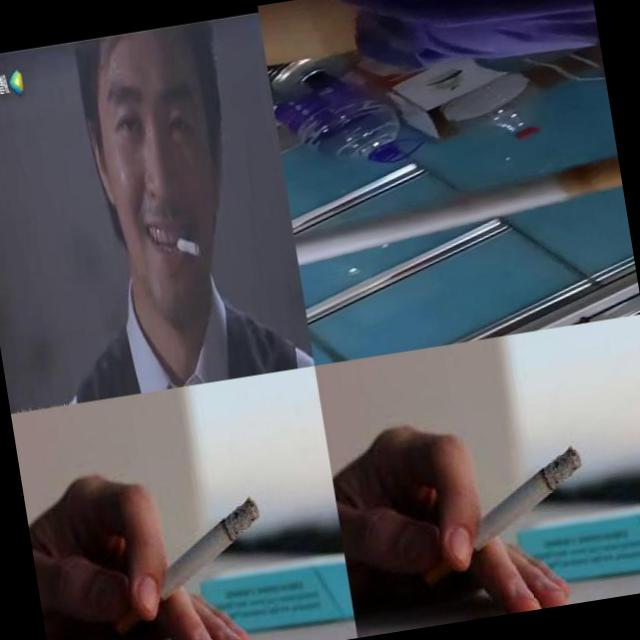smoke: (290, 156, 628, 270), (408, 444, 597, 588), (100, 496, 274, 636), (170, 230, 207, 266)
